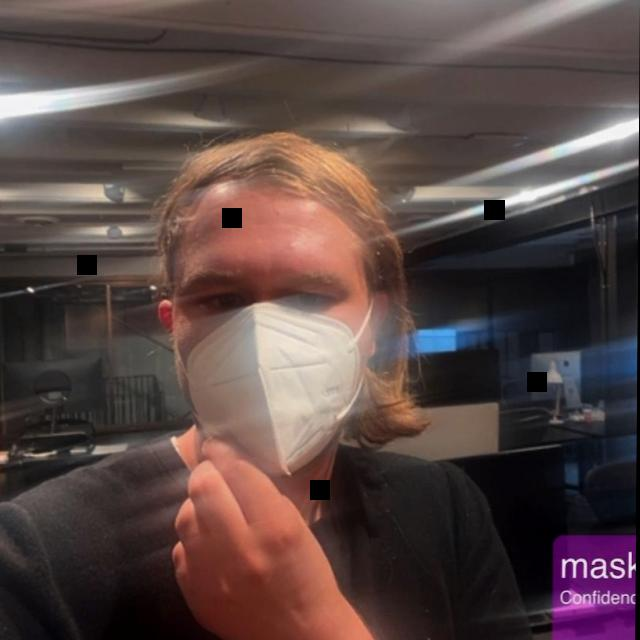Mask: (139, 112, 421, 472)
